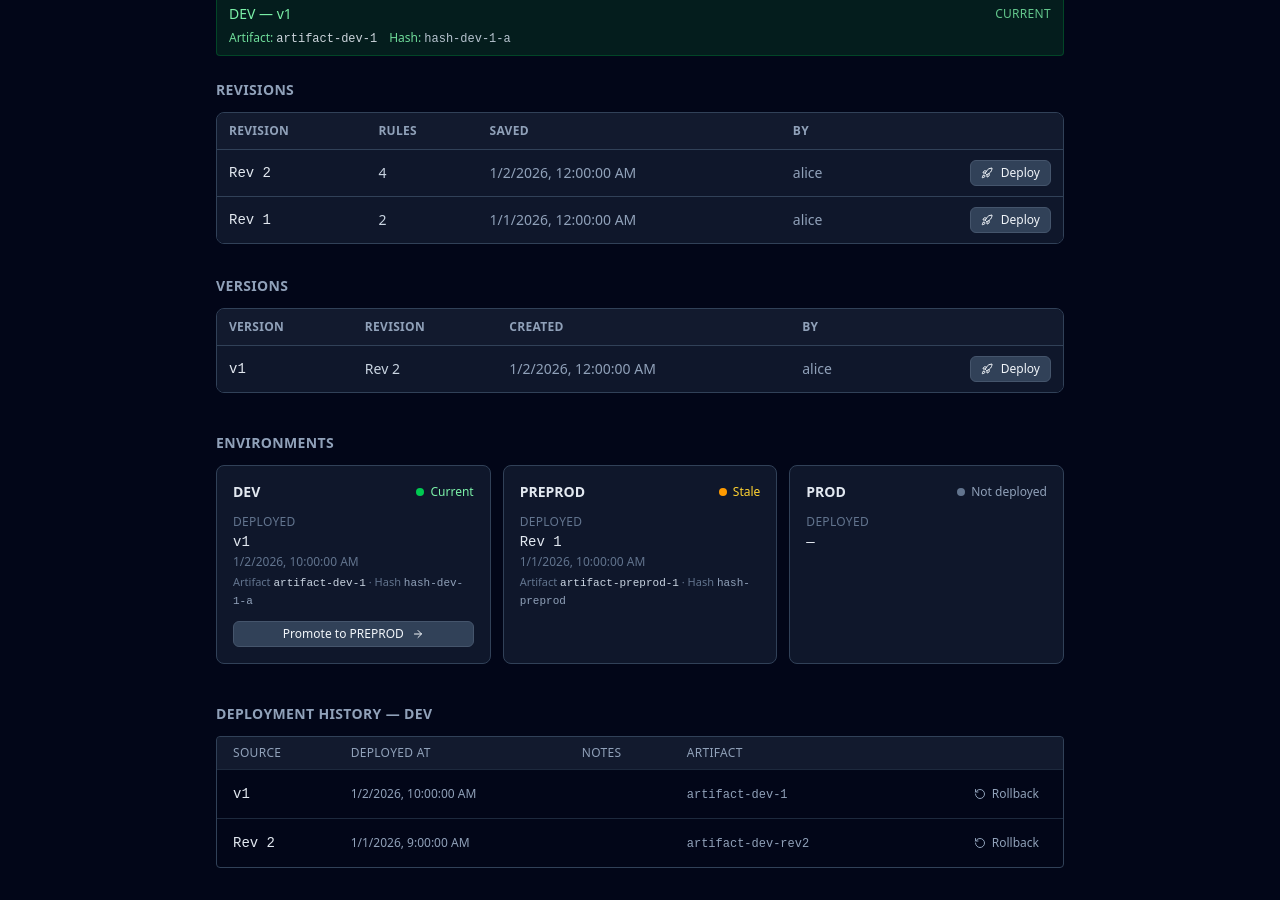
T-06: Deployment history › shows success banner after rollback
The image size is (1280, 900).
(page scrolled)
Click the button "Rollback" in the row of "1/1/2026, 9:00:00 AM".
click(1006, 843)  # box [966,831,1047,855]
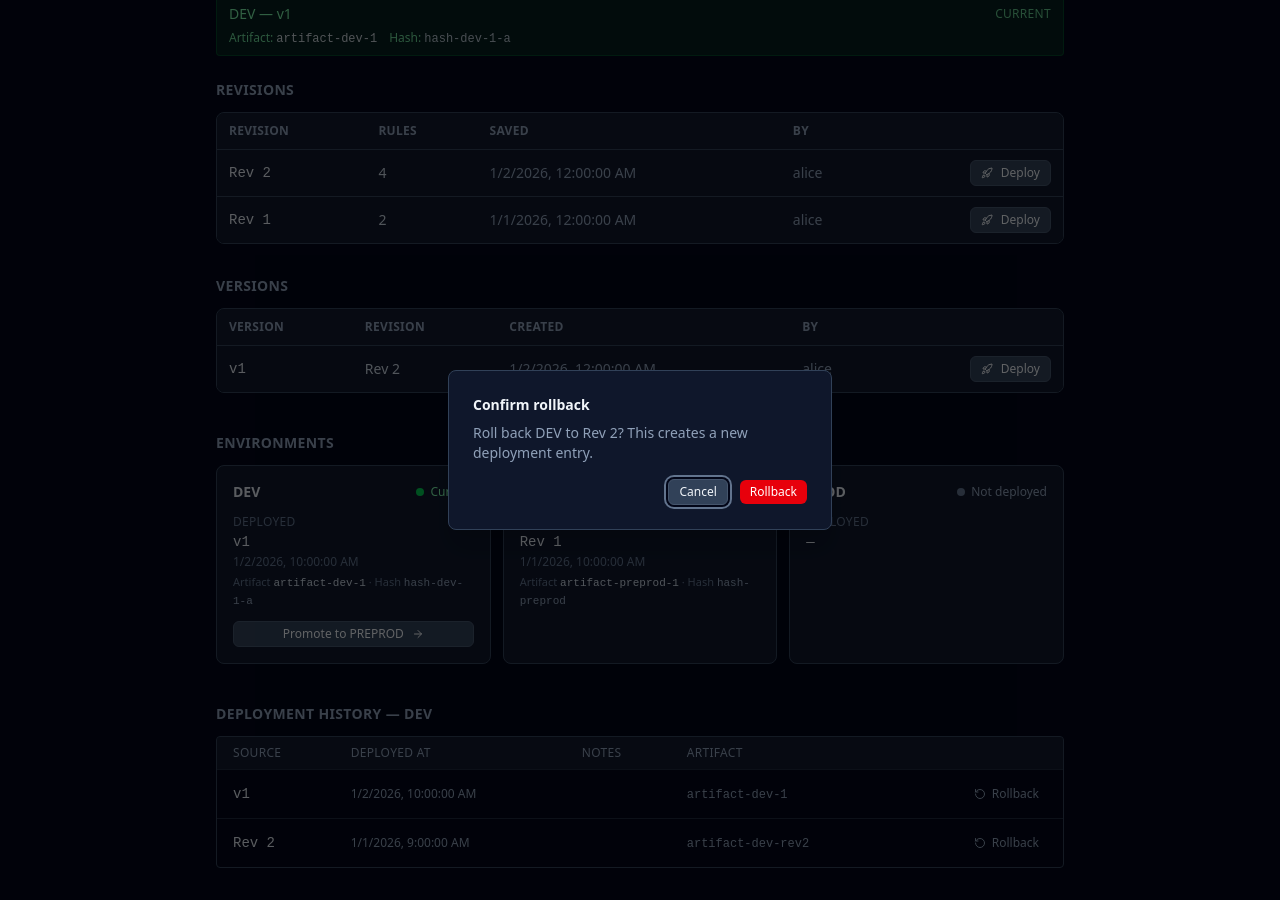
Expected: the dialog with test id "confirm-dialog" is shown, [448,370,832,530]
Click the button with test id "confirm-dialog-confirm".
click(773, 492)  # box [740,480,807,504]
(page scrolled)
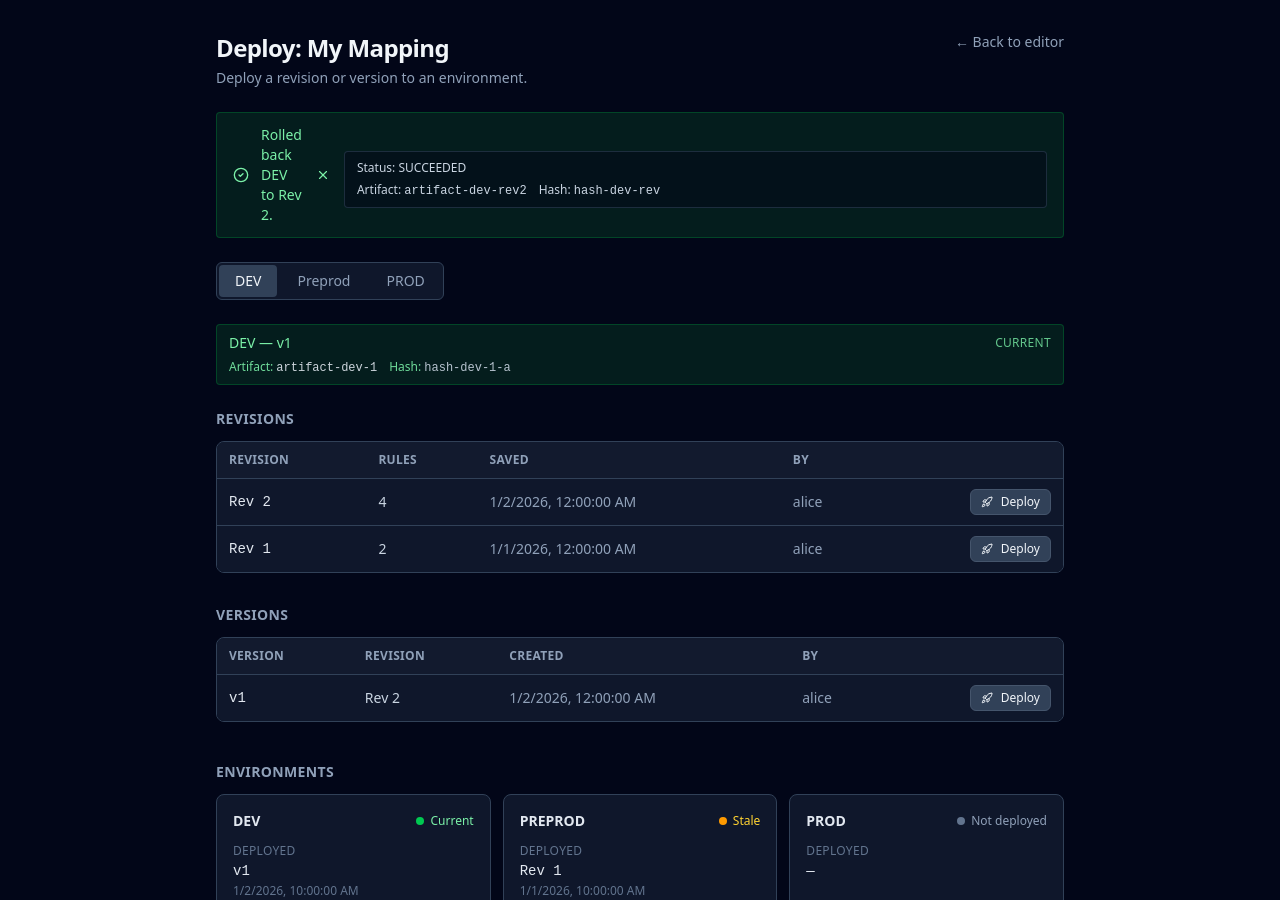
Expected: the message with test id "deploy-success-banner" is shown, [216,112,1064,238]
Expected: the message with test id "deploy-success-banner" shows "Rolled back", [261,125,302,224]
